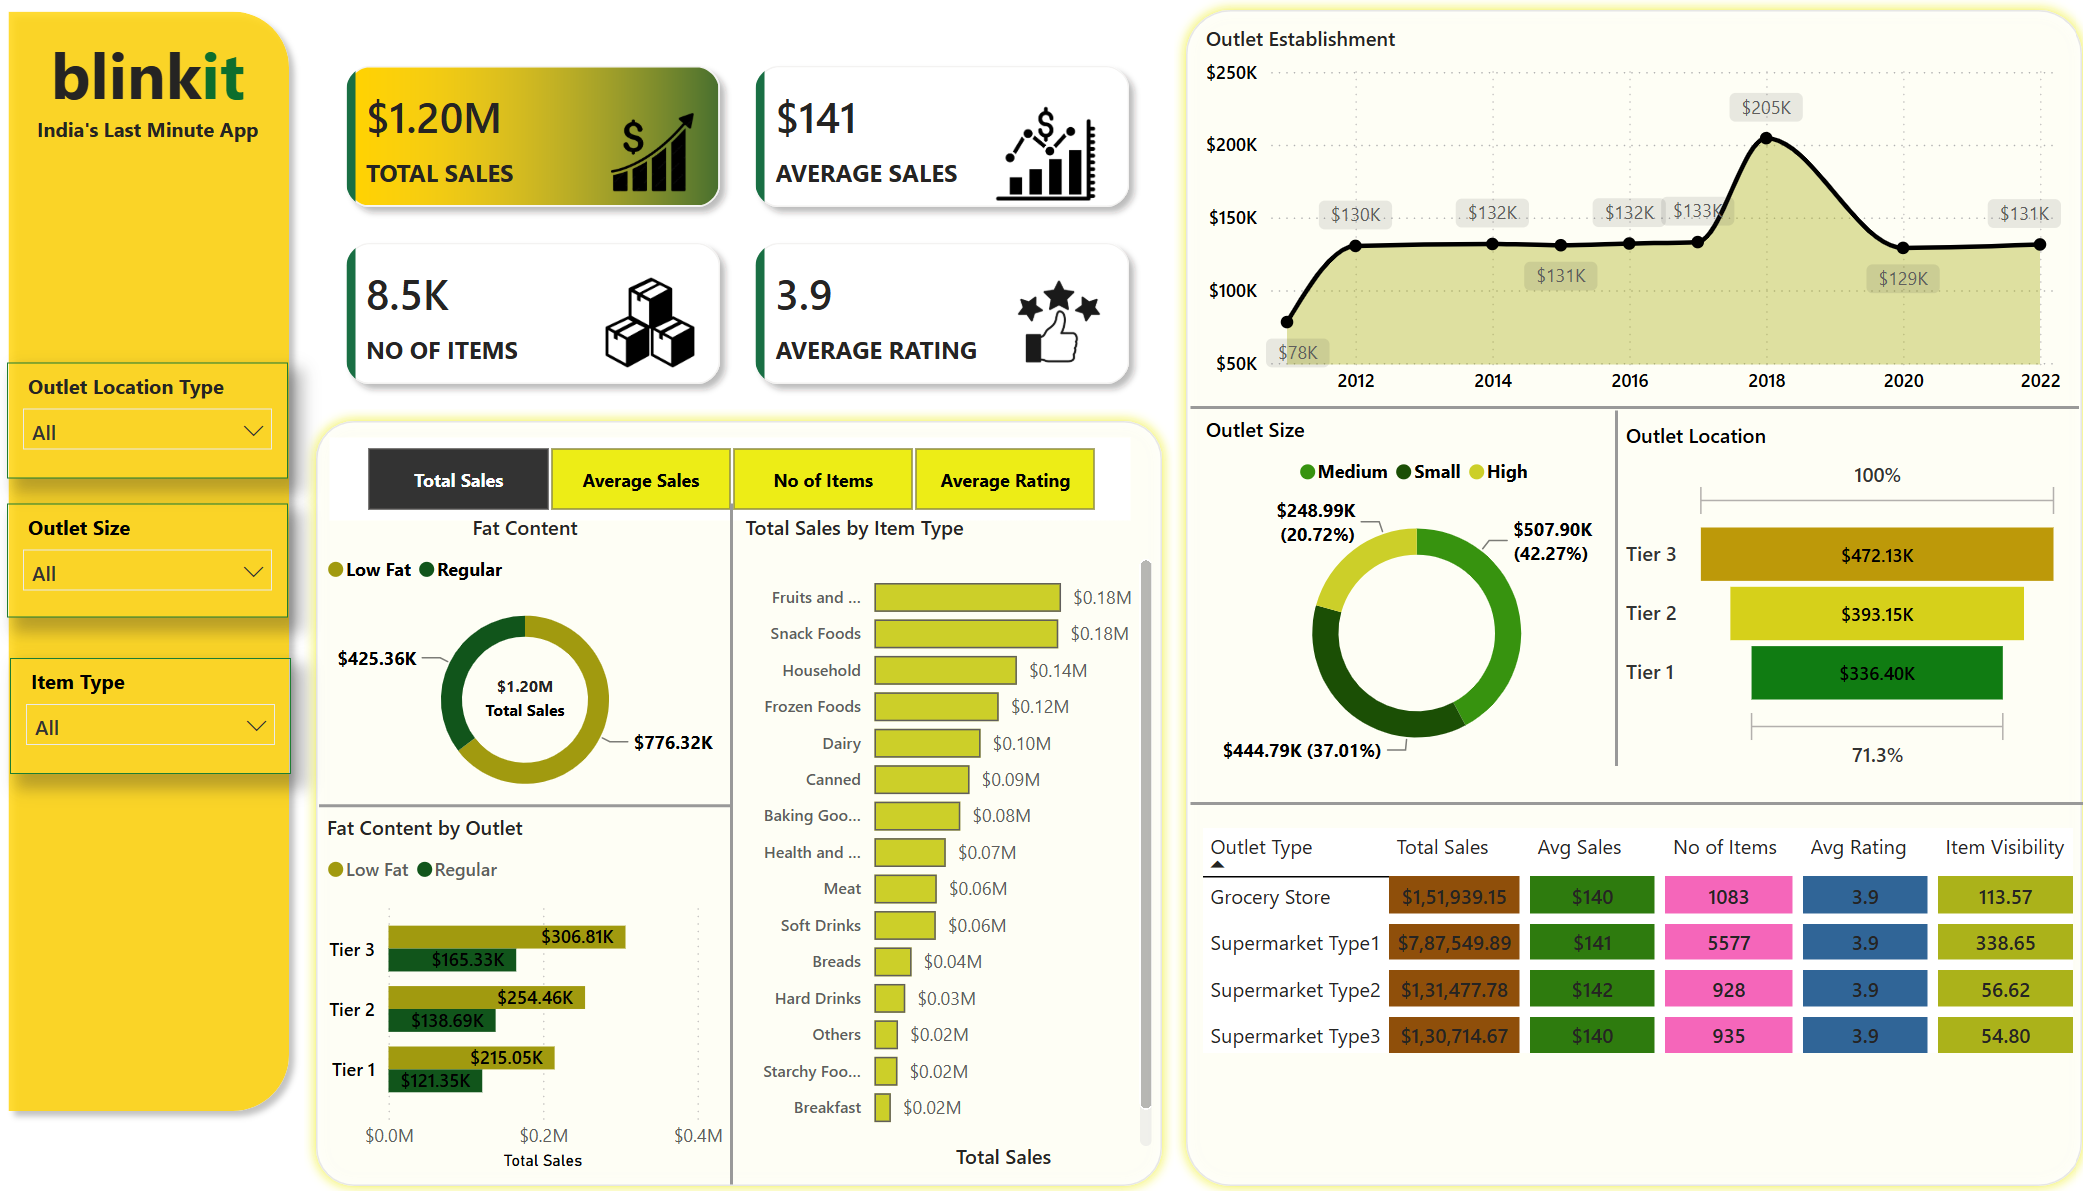

The dashboard page shown, as its layout file describes it:
{"tool":"powerbi","page":{"name":"BlinkIT Sales Dashboard","canvas":[1400,800],"ordinal":0},"visuals":[{"type":"shape","box":[0,0,205,751],"z":0},{"type":"textbox","box":[8,16,187,98],"z":1000},{"type":"cardVisual","fields":{"Data":["Sheet1.Total Sales","Sheet1.Average Sales","Sheet1.No of Items","Sheet1.Average Rating"]},"box":[205,16,580,270],"z":2000},{"type":"image","box":[404,74,68,55],"z":3000},{"type":"image","box":[661,69,78,66],"z":4000},{"type":"image","box":[661,172,96,87],"z":5000},{"type":"image","box":[404,182,65,68],"z":6000},{"type":"shape","box":[206,274,580,526],"z":7000},{"type":"donutChart","title":"Fat Content","fields":{"Y":["Sheet1.Total Sales"],"Category":["Sheet1.Item Fat Content"]},"box":[216,343,274,203],"z":8000},{"type":"slicer","fields":{"Values":["metrics.metrics"]},"box":[223,293,534,55],"z":9000},{"type":"cardVisual","fields":{"Data":["Sheet1.Total Sales"]},"box":[297,429,112,73],"z":10000},{"type":"clusteredBarChart","title":"Fat Content by Outlet","fields":{"Y":["Sheet1.Total Sales"],"Series":["Sheet1.Item Fat Content"],"Category":["Sheet1.Outlet Location Type"]},"box":[216,543,274,242],"z":11000},{"type":"shape","box":[216,518,274,41],"z":12000},{"type":"shape","box":[470,337,42,454],"z":13000},{"type":"barChart","fields":{"Y":["Sheet1.Total Sales"],"Category":["Sheet1.Item Type"]},"box":[495,343,281,442],"z":14000},{"type":"shape","box":[786,0,614,800],"z":15000},{"type":"lineChart","title":"Outlet Establishment ","fields":{"Y":["Sheet1.Total Sales"],"Category":["Sheet1.Outlet Establishment Year"]},"box":[801.7,16.7,580,256.7],"z":16000},{"type":"donutChart","title":"Outlet Size","fields":{"Y":["Sheet1.Total Sales"],"Category":["Sheet1.Outlet Size"]},"box":[801.7,278.3,291.7,243.3],"z":17000},{"type":"shape","box":[1060,275,41.7,236.7],"z":18000},{"type":"funnel","title":" Outlet Location ","fields":{"Y":["Sheet1.Total Sales"],"Category":["Sheet1.Outlet Location Type"]},"box":[1081.7,281.7,300,238.3],"z":19000},{"type":"shape","box":[796.7,253.3,593.3,40],"z":20000},{"type":"shape","box":[796.7,516.7,598.3,40],"z":21000},{"type":"slicer","fields":{"Values":["Sheet1.Outlet Location Type"]},"box":[8.3,243.3,186.7,76.7],"z":22000},{"type":"slicer","fields":{"Values":["Sheet1.Outlet Size"]},"box":[8.3,336.7,186.7,76.7],"z":23000},{"type":"pivotTable","fields":{"Rows":["Sheet1.Outlet Type"],"Values":["Sheet1.Total Sales","Sheet1.Average Sales","Sheet1.No of Items","Sheet1.Average Rating","Sum(Sheet1.Item Visibility)"]},"box":[800,548.3,593.3,241.7],"z":24000},{"type":"slicer","fields":{"Values":["Sheet1.Item Type"]},"box":[10,440,186.7,76.7],"z":25000}]}

Visuals, with their boxes in screenshot pixels (x1, y1, x2, y2), scaled from the page's 1400x800 canvas onto the 2083x1191 screenshot:
shape: region(0, 0, 305, 1118)
textbox: region(12, 24, 290, 170)
cardVisual - Sheet1.Total Sales x Sheet1.Average Sales: region(305, 24, 1168, 426)
image: region(601, 110, 702, 192)
image: region(983, 103, 1100, 201)
image: region(983, 256, 1126, 386)
image: region(601, 271, 698, 372)
shape: region(306, 408, 1169, 1190)
"Fat Content" donutChart: region(321, 511, 729, 813)
slicer - metrics.metrics: region(332, 436, 1126, 518)
cardVisual - Sheet1.Total Sales: region(442, 639, 609, 747)
"Fat Content by Outlet" clusteredBarChart: region(321, 808, 729, 1169)
shape: region(321, 771, 729, 832)
shape: region(699, 502, 762, 1178)
barChart - Sheet1.Total Sales x Sheet1.Item Type: region(736, 511, 1155, 1169)
shape: region(1169, 0, 2082, 1190)
"Outlet Establishment " lineChart: region(1193, 25, 2056, 407)
"Outlet Size" donutChart: region(1193, 414, 1627, 777)
shape: region(1577, 409, 1639, 762)
" Outlet Location " funnel: region(1609, 419, 2056, 774)
shape: region(1185, 377, 2068, 437)
shape: region(1185, 769, 2076, 829)
slicer - Sheet1.Outlet Location Type: region(12, 362, 290, 476)
slicer - Sheet1.Outlet Size: region(12, 501, 290, 615)
pivotTable - Sheet1.Outlet Type x Sheet1.Total Sales: region(1190, 816, 2073, 1176)
slicer - Sheet1.Item Type: region(15, 655, 293, 769)
